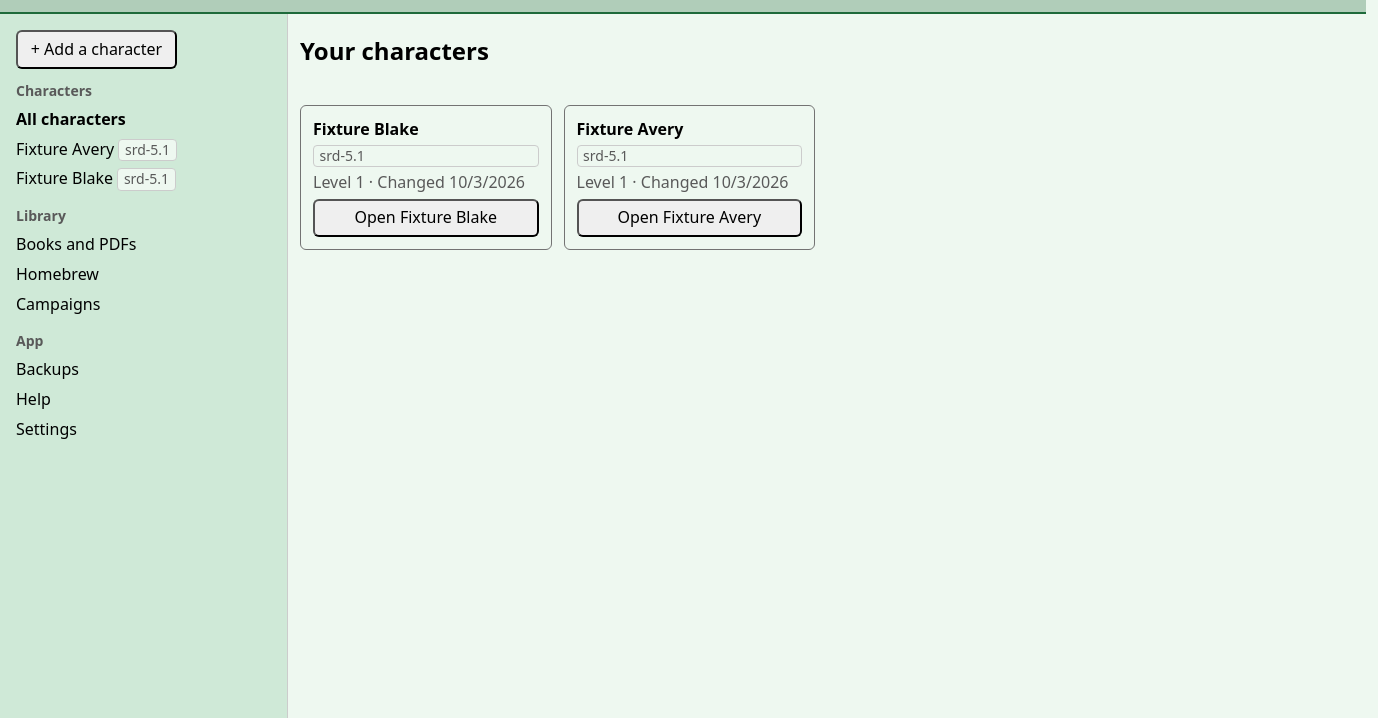
Test: the sidebar Help item opens the Help screen with focus on its h1, and there is no separate Gap notes screen
The width and height of the screenshot is (1378, 718).
Click the button "Help": click(33, 400) [16,385,51,414]
(page scrolled)
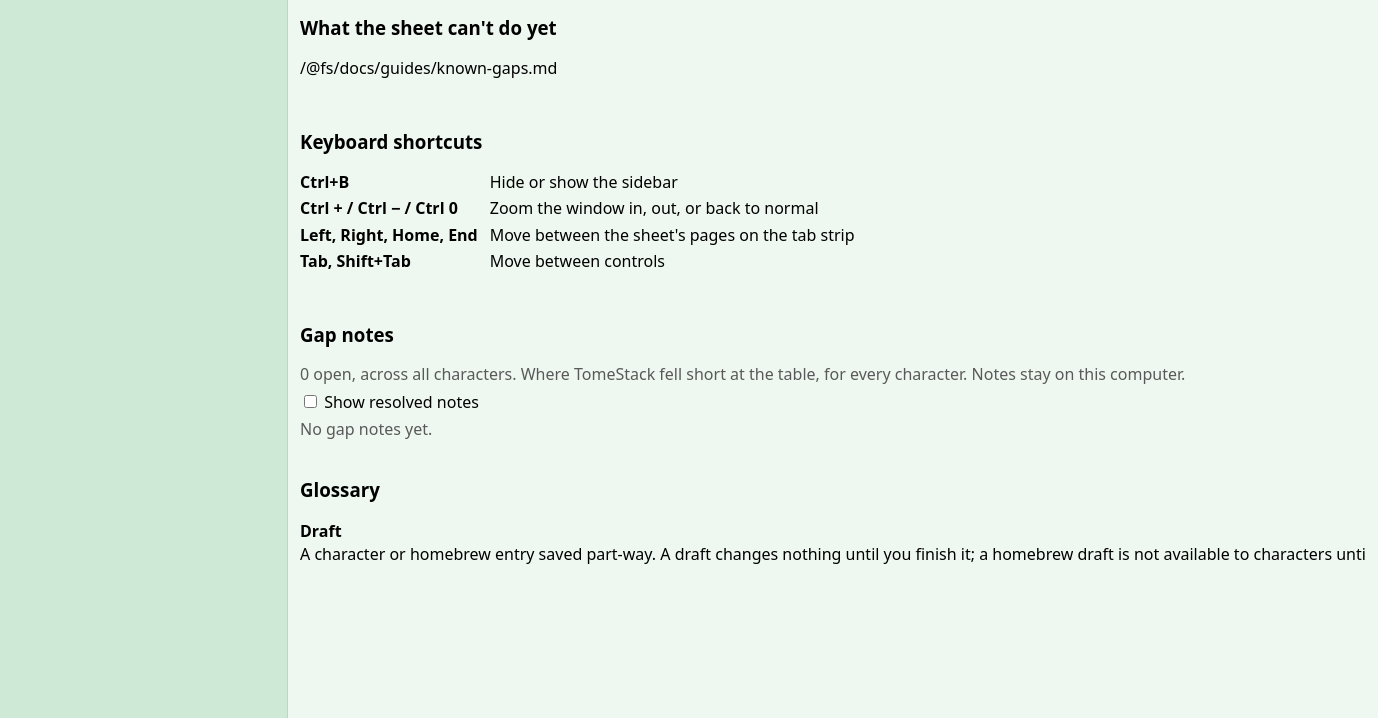
Expected: the heading "Gap notes" is shown, [300,322,394,347]
